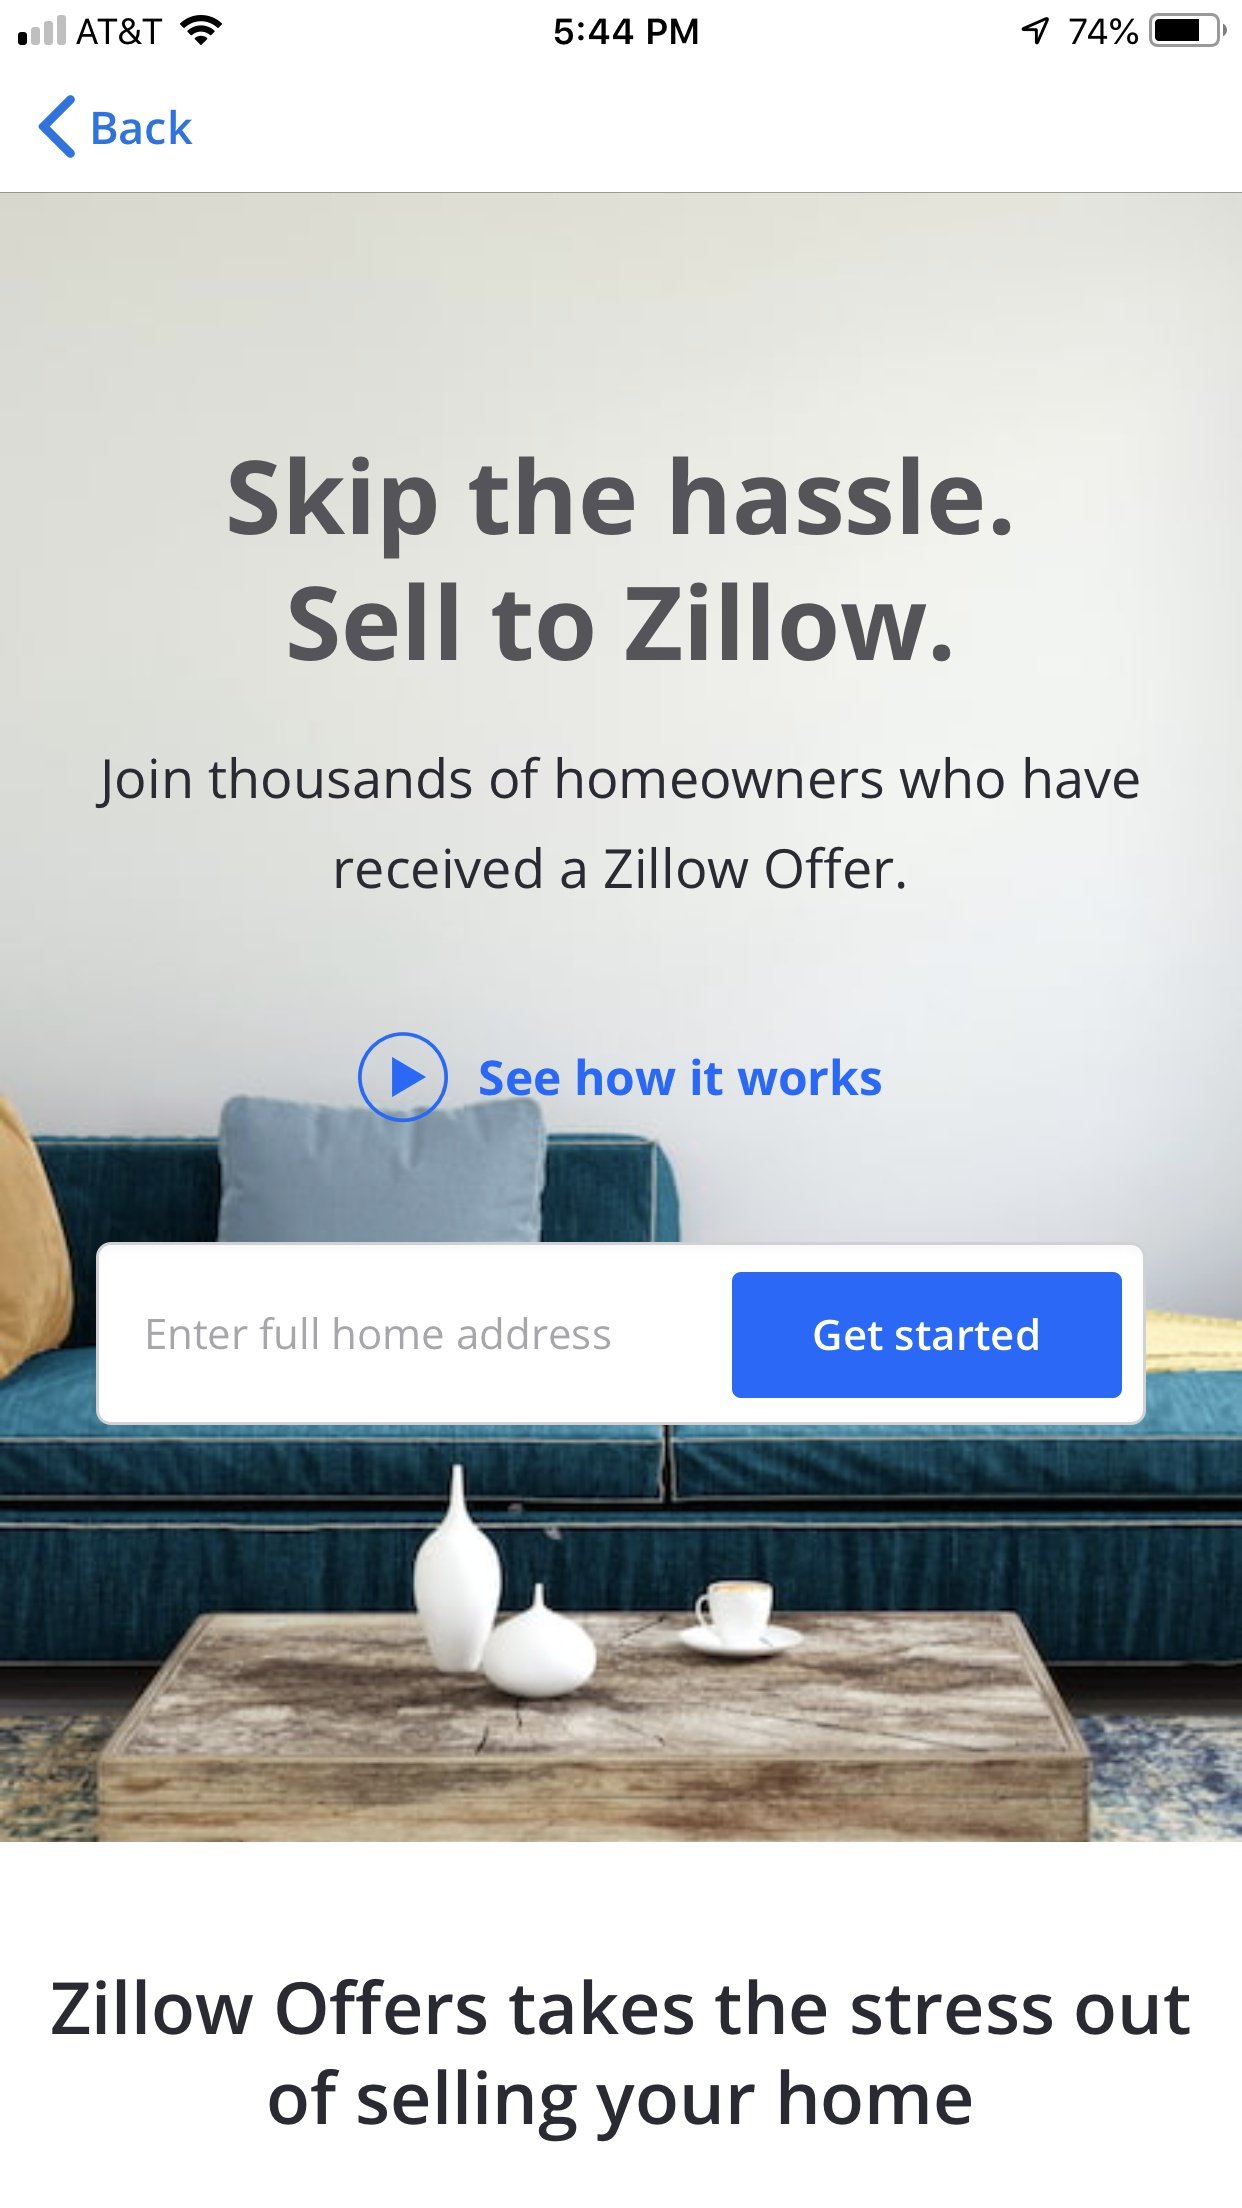EditText: (97, 1242, 1146, 1425)
Icon: (358, 1033, 450, 1124), (38, 96, 77, 161)
Image: (2, 193, 1242, 1843)
Text: (52, 1979, 1190, 2143), (229, 456, 1011, 663), (96, 757, 1140, 890), (481, 1059, 883, 1098), (149, 1316, 613, 1350), (93, 111, 194, 147)
TextButton: (732, 1271, 1124, 1400)
UpperTaskBar: (2, 2, 1242, 49)
